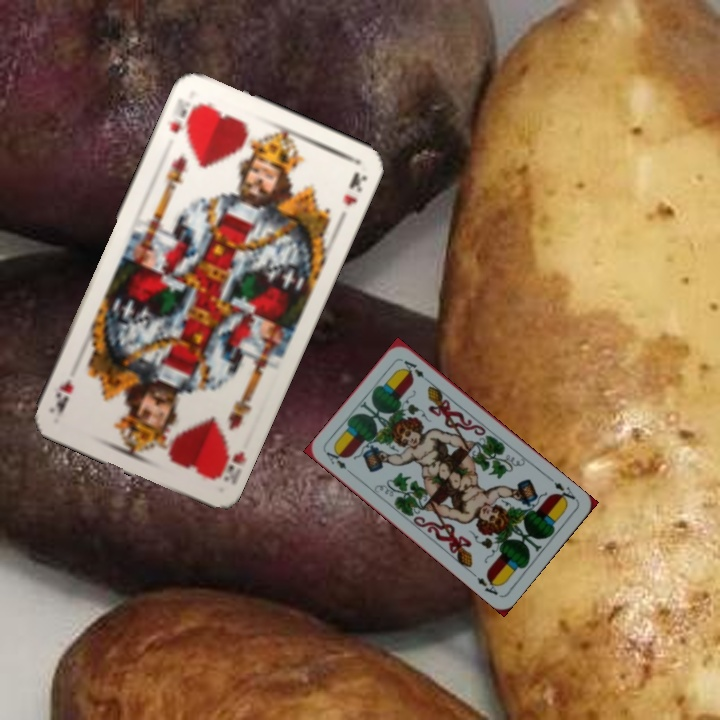EA: (550, 477, 579, 506), (322, 446, 349, 472)
HK: (209, 442, 248, 487), (165, 98, 202, 139)
